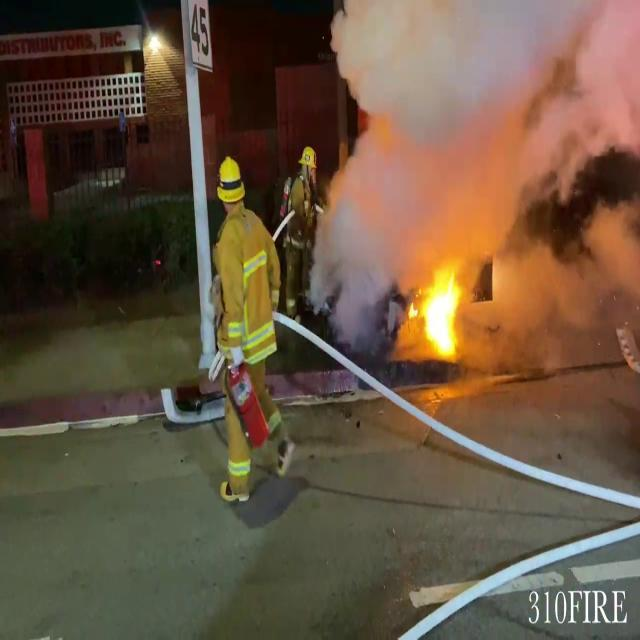Fire: (406, 260, 478, 362)
Smoke: (306, 0, 640, 294)
